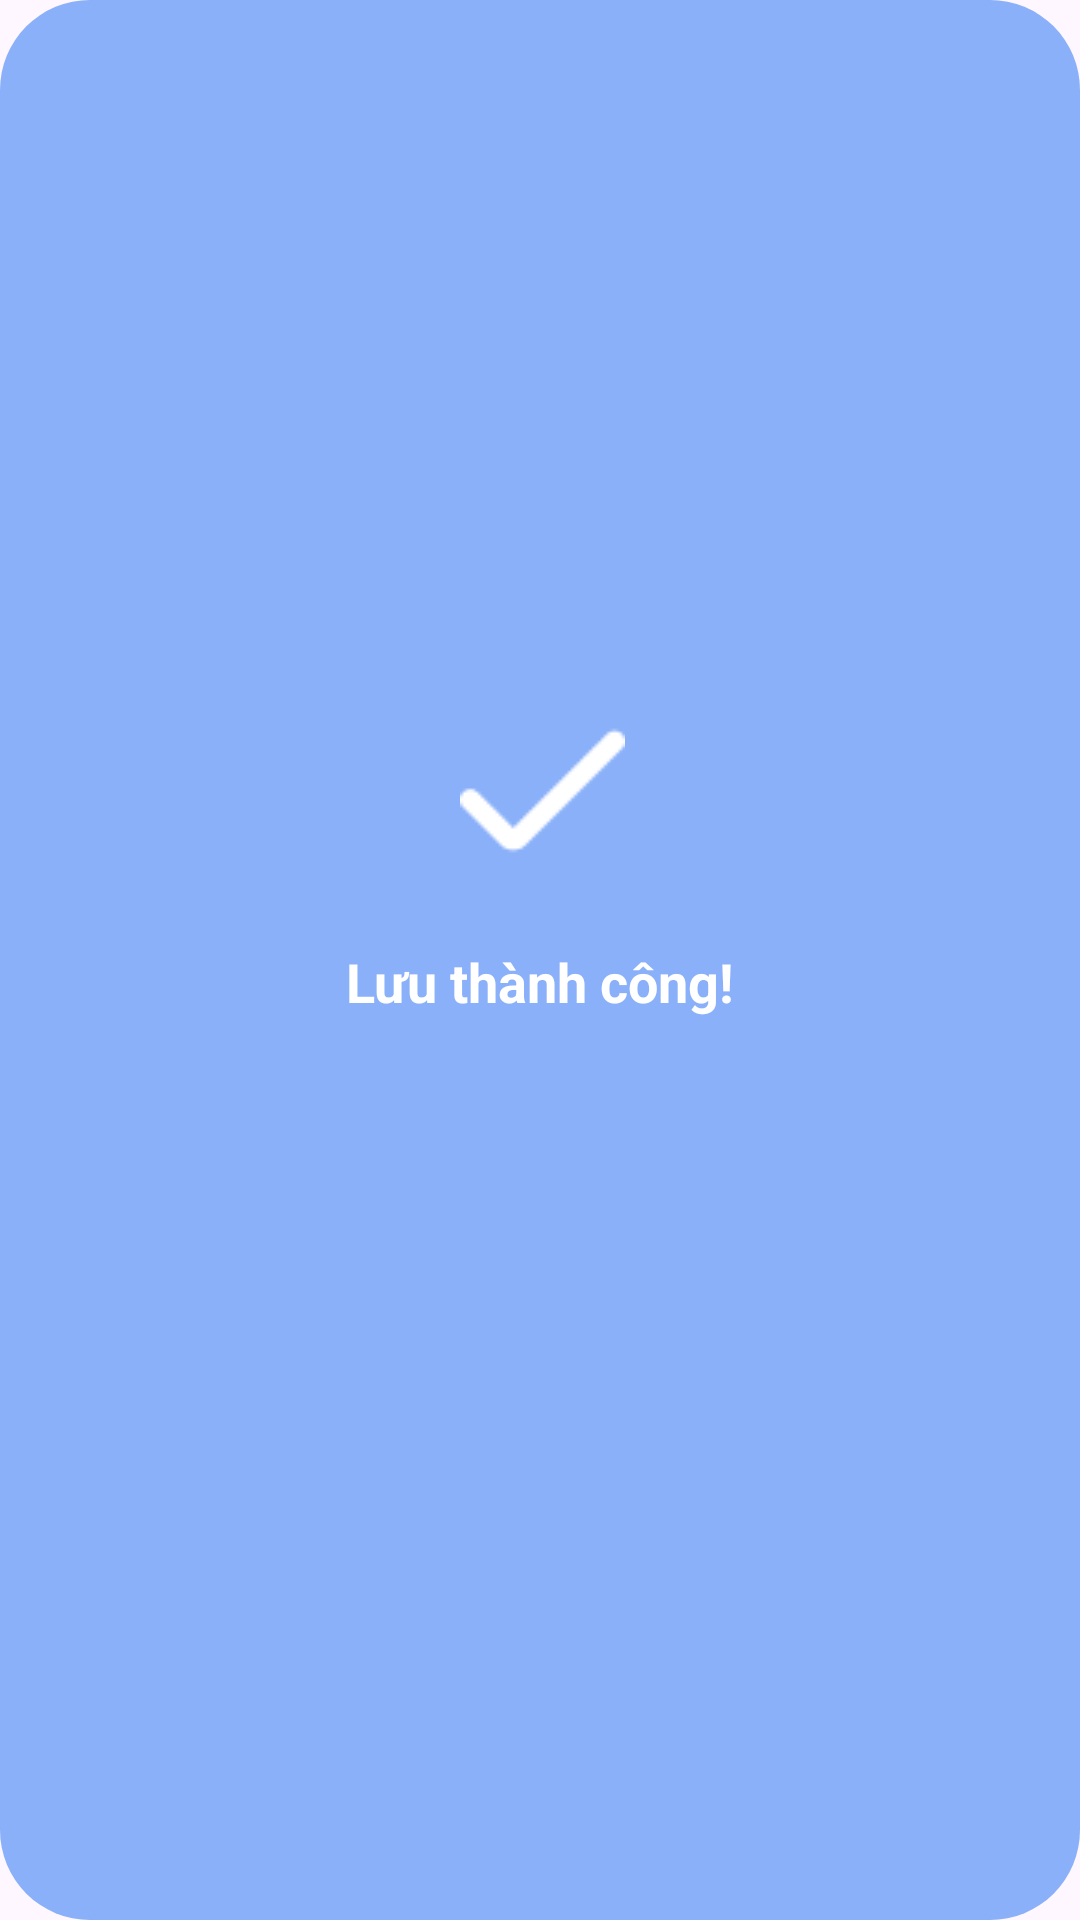

Screen size 1080 x 1920. Icon name, then its box in pixels as (x1, y1, x2, y2):
check: (460, 729, 625, 852)
